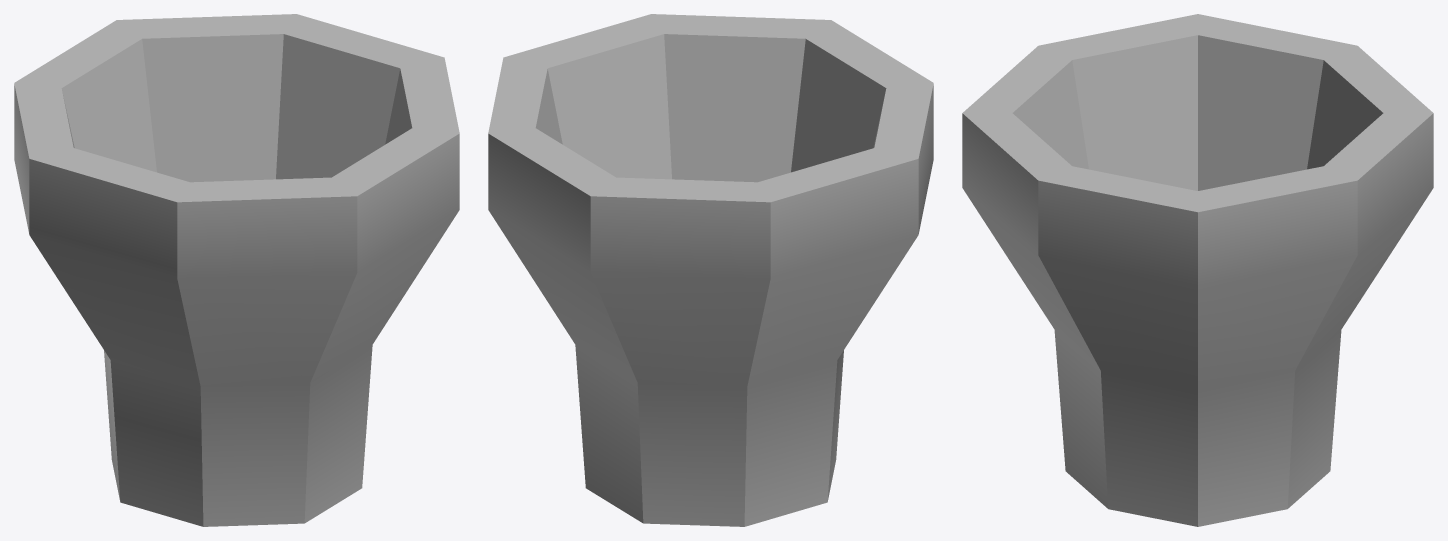
Rendered from Shot_Bardagi.fbx.
The picture shows the model from 3 angles, left to right: view 1: azimuth 30°, elevation 25°; view 2: azimuth 150°, elevation 25°; view 3: azimuth 270°, elevation 25°; orthographic projection. The views are drawn at different scales.
Visible parts, largest first — view 1: Cube; view 2: Cube; view 3: Cube.
Boxes of the visible parts, x1,y1,x2,y2 form: Cube: [14, 14, 459, 526]; Cube: [488, 14, 933, 526]; Cube: [962, 14, 1433, 526].
Bounding box in the file's own units: 80.56 × 67.85 × 80.92.
